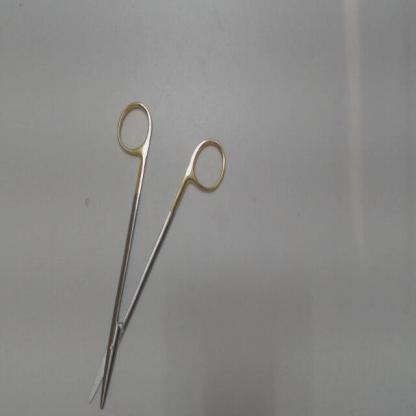7 Metzenbaum Scissors: (83, 96, 234, 414)
